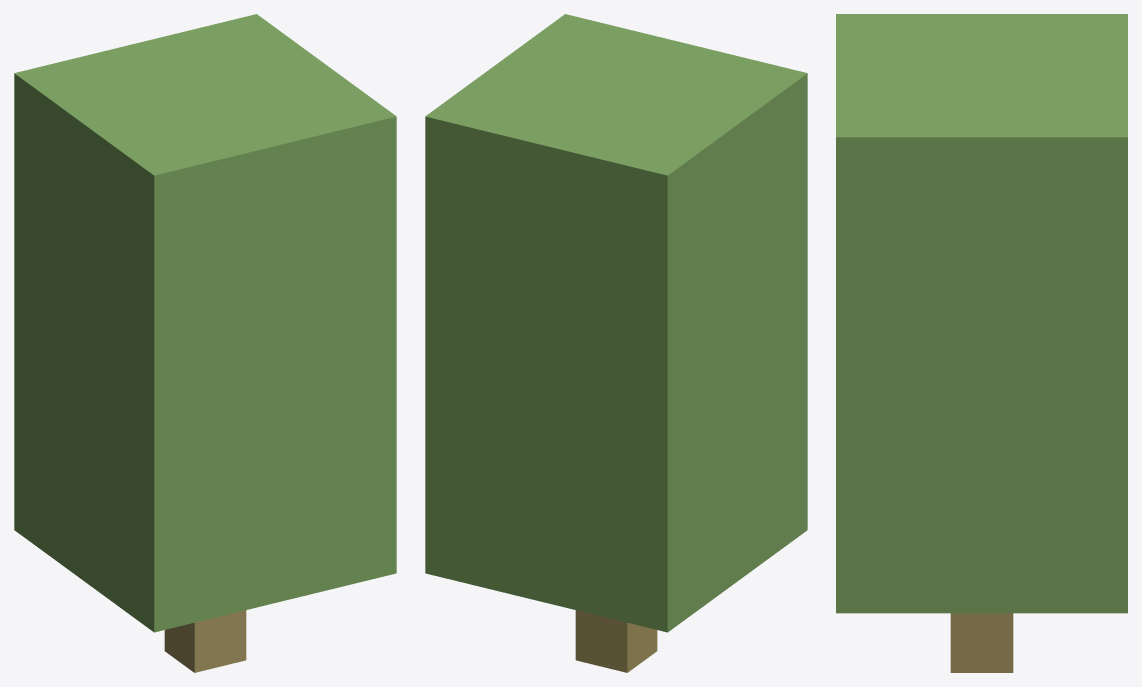
Rendered from vegetation_001.glb.
3 views of the same model, side by side, from view 1: azimuth 30°, elevation 25°; view 2: azimuth 150°, elevation 25°; view 3: azimuth 270°, elevation 25° (orthographic). The views are drawn at different scales.
Visible parts, largest first — view 1: vegetation_001; view 2: vegetation_001; view 3: vegetation_001.
Boxes of the visible parts, left/top/right/bottom form: vegetation_001: left=14, top=14, right=396, bottom=672; vegetation_001: left=425, top=14, right=807, bottom=672; vegetation_001: left=836, top=14, right=1127, bottom=672.
Bounding box in the file's own units: 1.19 × 2.62 × 1.19.
1 material, 1 textured.
